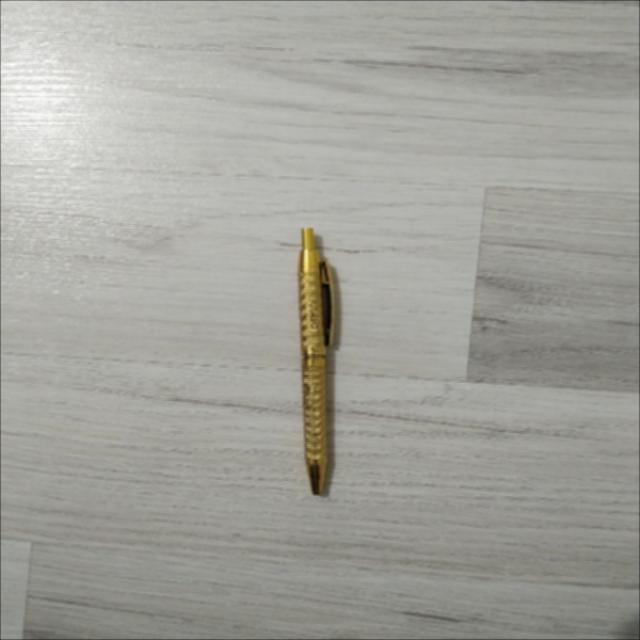signature pen: (298, 229, 335, 494)
